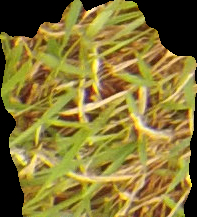grass: (1, 1, 196, 216)
